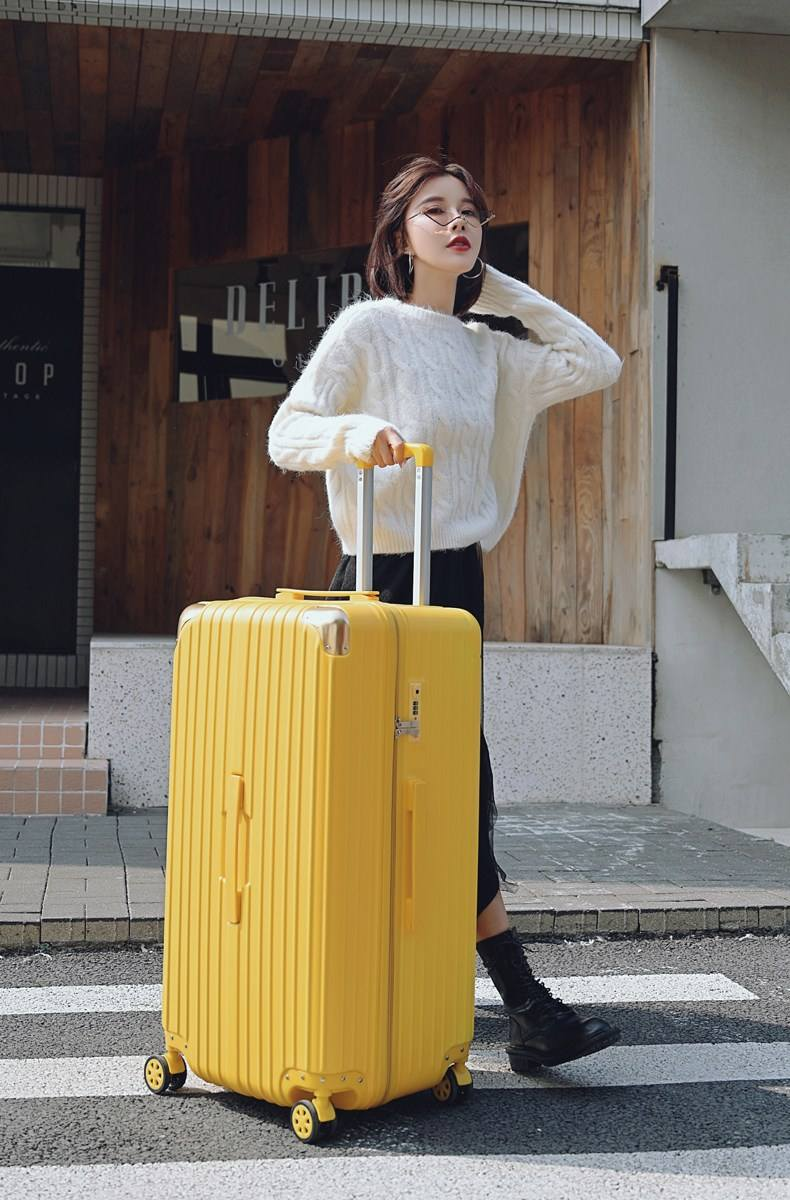box: (161, 594, 479, 1112)
handle: (271, 586, 380, 604)
lock: (395, 681, 428, 743)
wheel: (290, 1098, 336, 1144), (142, 1053, 187, 1095), (430, 1064, 474, 1106)
